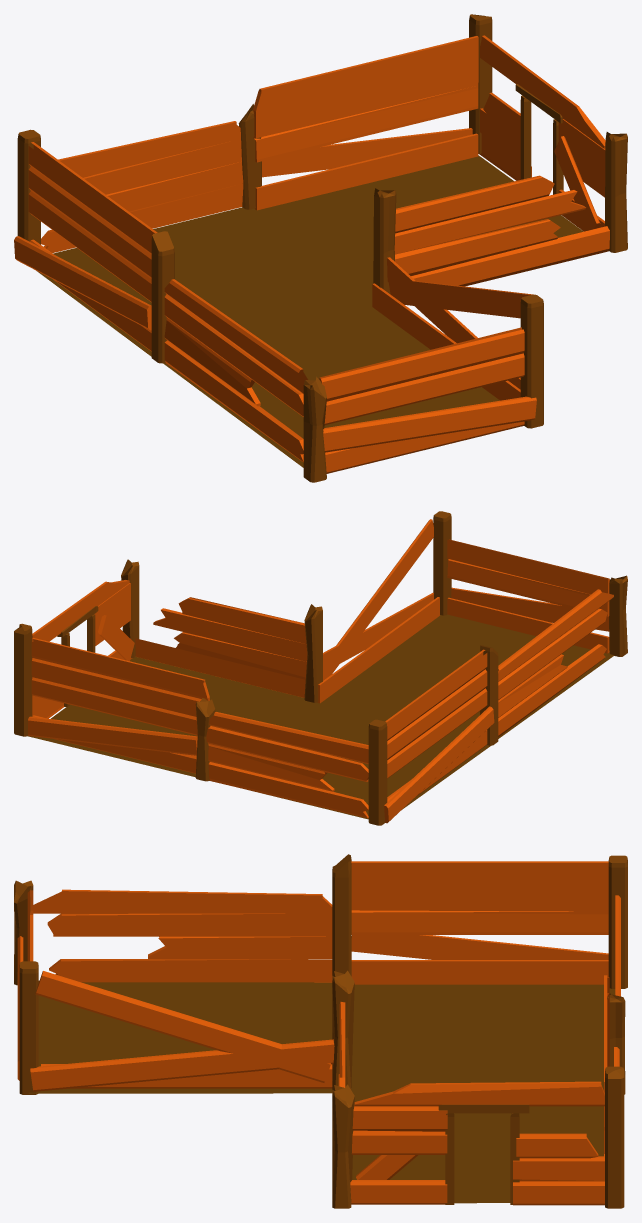
File: abandonedBuilding4.fbx
3 renders of one model, top to bottom at view 1: azimuth 30°, elevation 25°; view 2: azimuth 150°, elevation 25°; view 3: azimuth 270°, elevation 25°, orthographic. The views are drawn at different scales.
Parts seen in each view (by area): view 1: Building2; view 2: Building2; view 3: Building2.
Part boxes in pixels (box(x1,y1,x2,y2)): Building2: box(14, 14, 627, 482); Building2: box(14, 511, 627, 825); Building2: box(14, 854, 627, 1208).
Size of the model in its own units: 4304 by 1189 by 4776.
